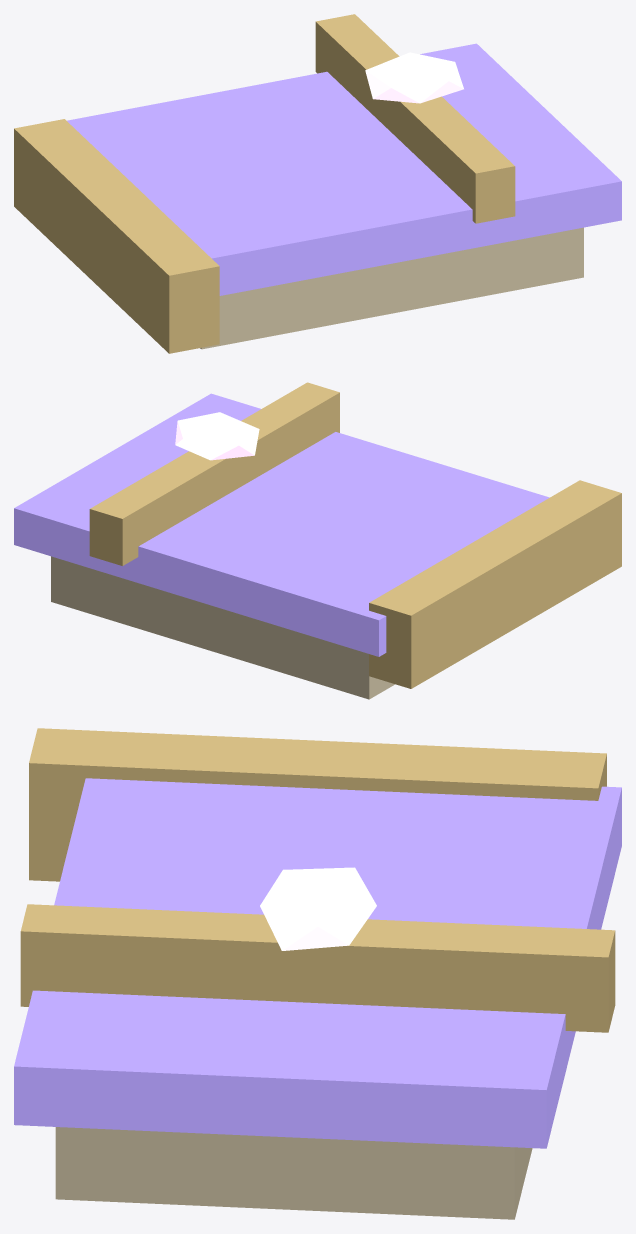
File: crafting_book_rare.glb
3 renders of one model, top to bottom at view 1: azimuth 30°, elevation 25°; view 2: azimuth 150°, elevation 25°; view 3: azimuth 270°, elevation 25°, orthographic. The views are drawn at different scales.
Parts seen in each view (by area): view 1: crafting_book_rare; view 2: crafting_book_rare; view 3: crafting_book_rare.
Boxes of the visible parts, bbox=[...] form: crafting_book_rare: bbox=[14, 14, 621, 353]; crafting_book_rare: bbox=[14, 382, 621, 699]; crafting_book_rare: bbox=[14, 728, 621, 1219].
Size of the model in its own units: 0.4477 by 0.1571 by 0.3292.
